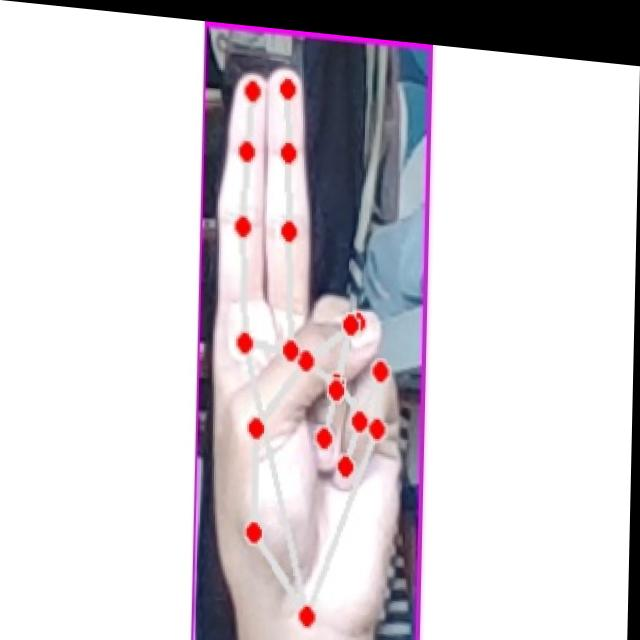U: (208, 45, 410, 640)
